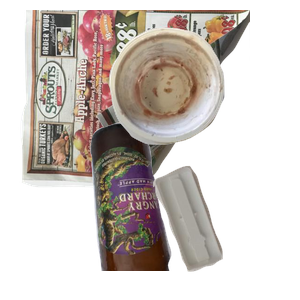glass: (88, 120, 252, 300)
paper: (18, 10, 258, 190)
plastic: (150, 163, 300, 300)
trash: (107, 25, 300, 162)
